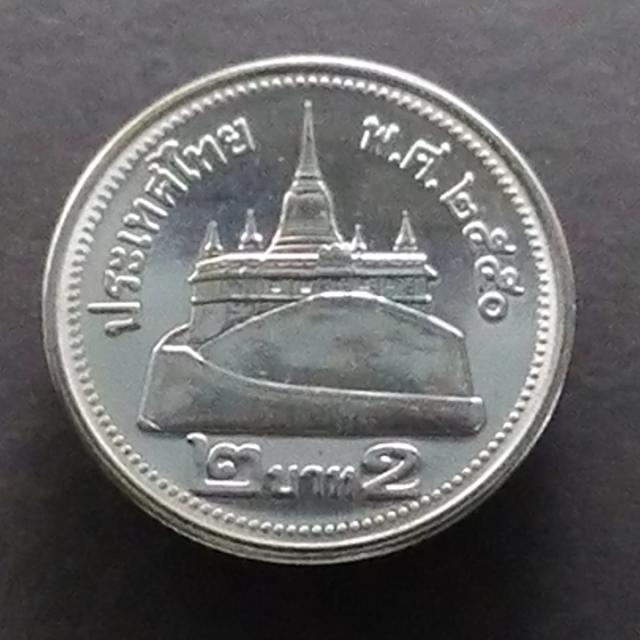2 Bath: (38, 51, 584, 578)
